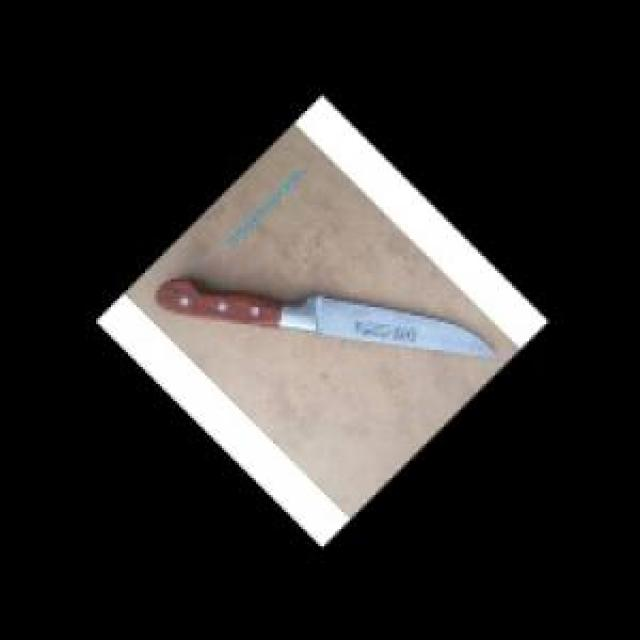knife: (150, 275, 500, 363)
